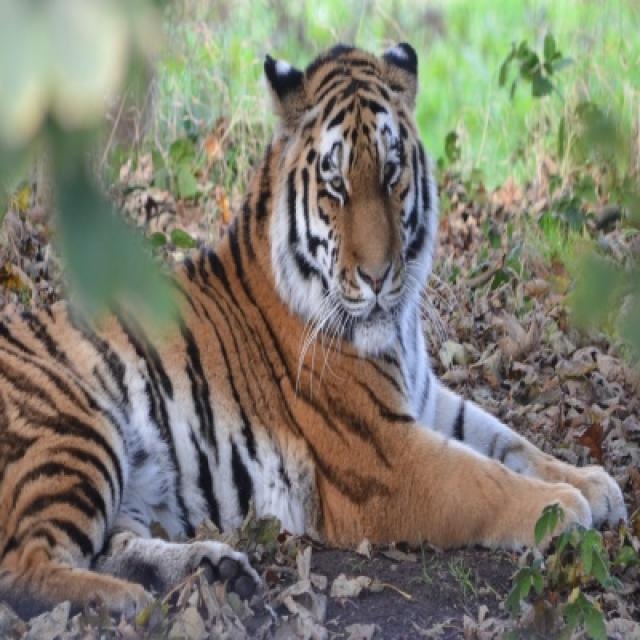Tiger: (0, 39, 625, 627)
